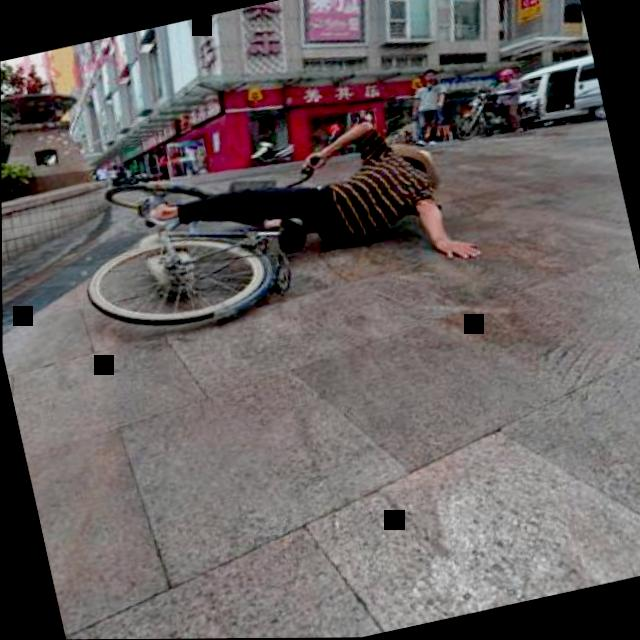Fall-Detected: (135, 87, 489, 328)
